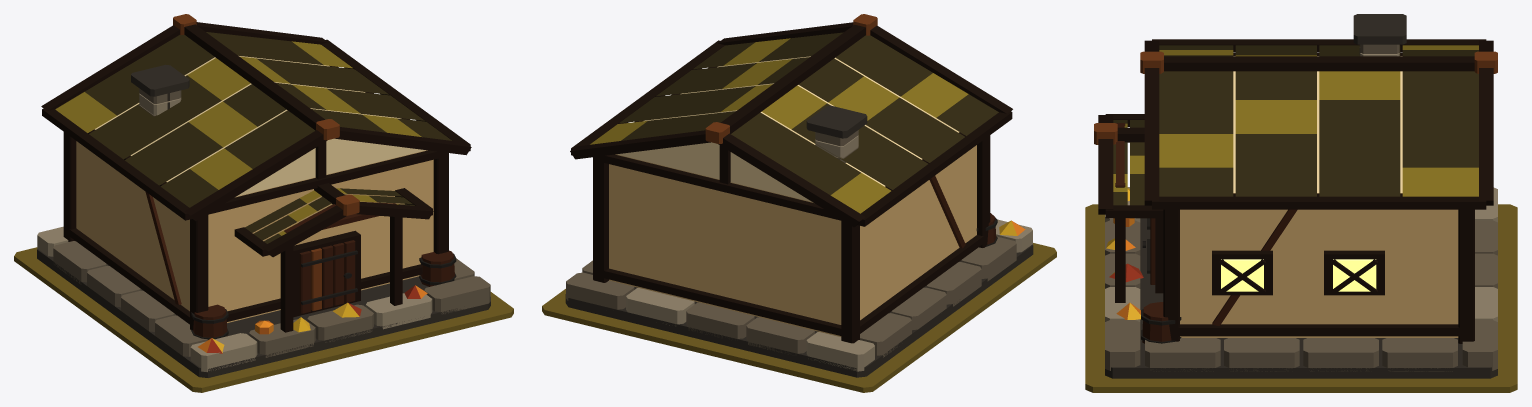
File: longhouse_t6.glb
3 renders of one model, left to right at view 1: azimuth 30°, elevation 25°; view 2: azimuth 150°, elevation 25°; view 3: azimuth 270°, elevation 25°, orthographic. The views are drawn at different scales.
Visible parts, largest first — view 1: MMR | longhouse | T06 Architecture.001, MMR | longhouse | Tier 06 Ground.001, MMR | longhouse | T06 Autumn Dressing.001; view 2: MMR | longhouse | T06 Architecture.001, MMR | longhouse | Tier 06 Ground.001; view 3: MMR | longhouse | T06 Architecture.001, MMR | longhouse | Tier 06 Ground.001, MMR | longhouse | T06 Autumn Dressing.001.
Boxes of the visible parts, x1,y1,x2,y2 form: MMR | longhouse | T06 Architecture.001: [37, 14, 490, 377]; MMR | longhouse | Tier 06 Ground.001: [14, 247, 513, 392]; MMR | longhouse | T06 Autumn Dressing.001: [198, 285, 427, 353]; MMR | longhouse | T06 Architecture.001: [565, 14, 1033, 377]; MMR | longhouse | Tier 06 Ground.001: [542, 243, 1056, 392]; MMR | longhouse | T06 Architecture.001: [1094, 14, 1497, 378]; MMR | longhouse | Tier 06 Ground.001: [1085, 204, 1517, 392]; MMR | longhouse | T06 Autumn Dressing.001: [1106, 188, 1143, 319].
Bounding box in the file's own units: 3.3 × 2.07 × 3.3.
Materials: 2 (1 with a texture image).
